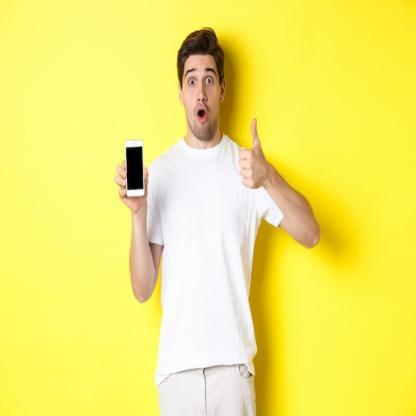thumb_up: (236, 113, 270, 195)
